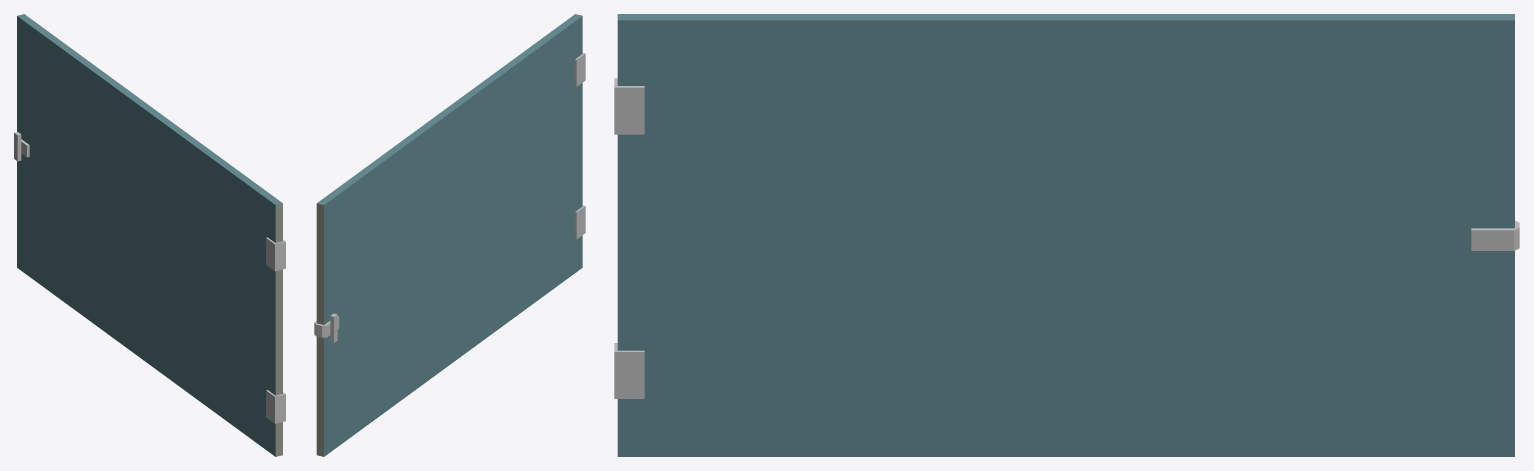
The model's file is SM_Shelf_Door_A_01.fbx.
3 renders of one model, left to right at view 1: azimuth 30°, elevation 25°; view 2: azimuth 150°, elevation 25°; view 3: azimuth 270°, elevation 25°, orthographic. The views are drawn at different scales.
Visible parts, largest first — view 1: SM_Shelf_Door_A_01; view 2: SM_Shelf_Door_A_01; view 3: SM_Shelf_Door_A_01.
Part boxes in pixels (box(x1,y1,x2,y2)): SM_Shelf_Door_A_01: box(14, 14, 285, 456); SM_Shelf_Door_A_01: box(314, 14, 585, 456); SM_Shelf_Door_A_01: box(614, 14, 1519, 456).
Size of the model in its own units: 2.46 by 36.21 by 68.06.
